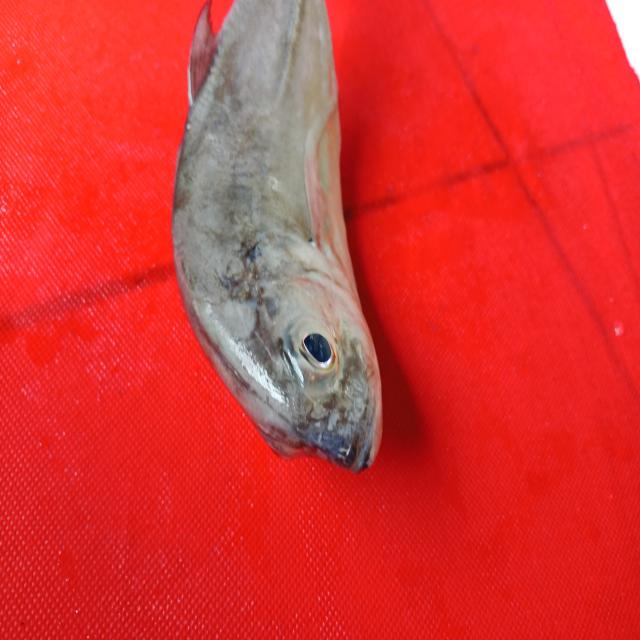ikan: (170, 0, 385, 474)
